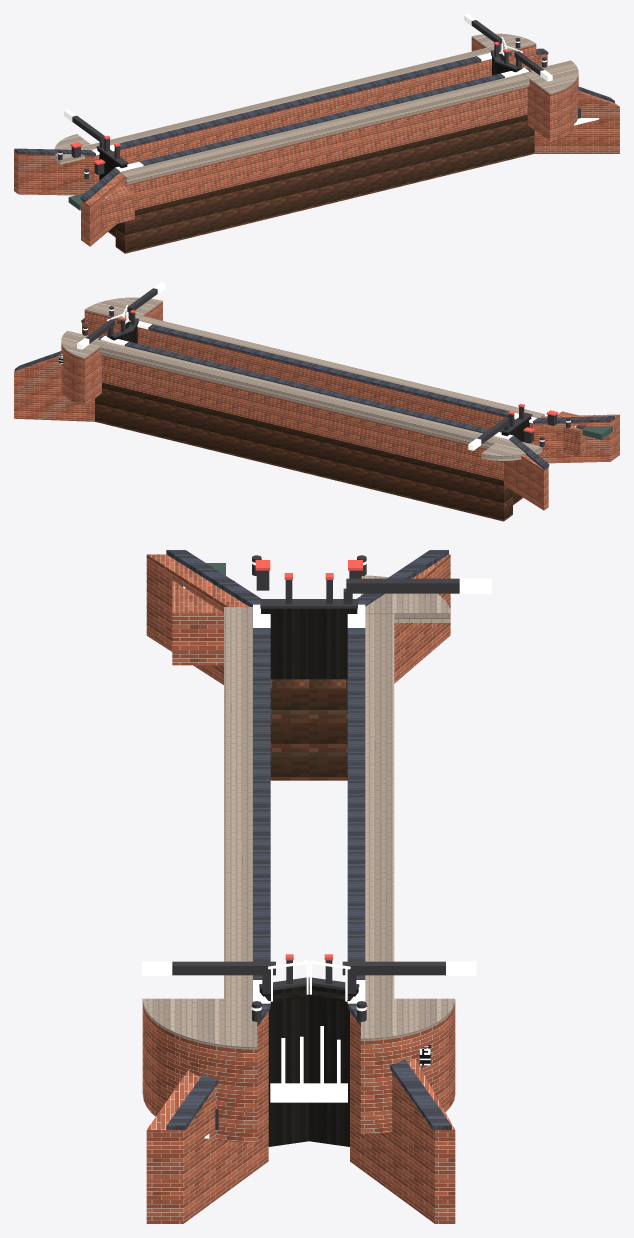
The model's file is lock-43.glb.
The picture shows the model from 3 angles, top to bottom: view 1: azimuth 30°, elevation 25°; view 2: azimuth 150°, elevation 25°; view 3: azimuth 270°, elevation 25°; orthographic projection. The views are drawn at different scales.
Parts seen in each view (by area): view 1: Chamber, ChamberWet, Edge, Coping.001, TopGateCap, Coping, TopGate; view 2: Chamber, ChamberWet, Edge, Coping.001, TopGateCap, Coping, TopGate; view 3: Chamber, Edge, Coping.001, TopGate, TopGateCap, ChamberWet, Coping, Leak.
Part boxes in pixels (left/top/right/bottom): Chamber: left=14, top=38, right=619, bottom=246; ChamberWet: left=108, top=114, right=534, bottom=253; Edge: left=54, top=33, right=578, bottom=184; Coping.001: left=14, top=48, right=614, bottom=202; TopGateCap: left=58, top=20, right=580, bottom=179; Coping: left=57, top=14, right=552, bottom=173; TopGate: left=97, top=53, right=522, bottom=180; Chamber: left=14, top=302, right=619, bottom=510; ChamberWet: left=95, top=382, right=522, bottom=521; Edge: left=61, top=297, right=544, bottom=460; Coping.001: left=14, top=318, right=614, bottom=469; TopGateCap: left=83, top=288, right=570, bottom=447; Coping: left=77, top=282, right=570, bottom=450; TopGate: left=107, top=321, right=531, bottom=443; Chamber: left=142, top=554, right=455, bottom=1223; Edge: left=142, top=575, right=455, bottom=1049; Coping.001: left=166, top=550, right=451, bottom=1129; TopGate: left=259, top=608, right=358, bottom=1146; TopGateCap: left=172, top=555, right=459, bottom=1129; ChamberWet: left=270, top=679, right=347, bottom=780; Coping: left=142, top=561, right=491, bottom=1011; Leak: left=183, top=586, right=347, bottom=1138.
Bounding box in the file's own units: 33.12 × 5.79 × 9.46.
Materials: 11 (8 with a texture image).
